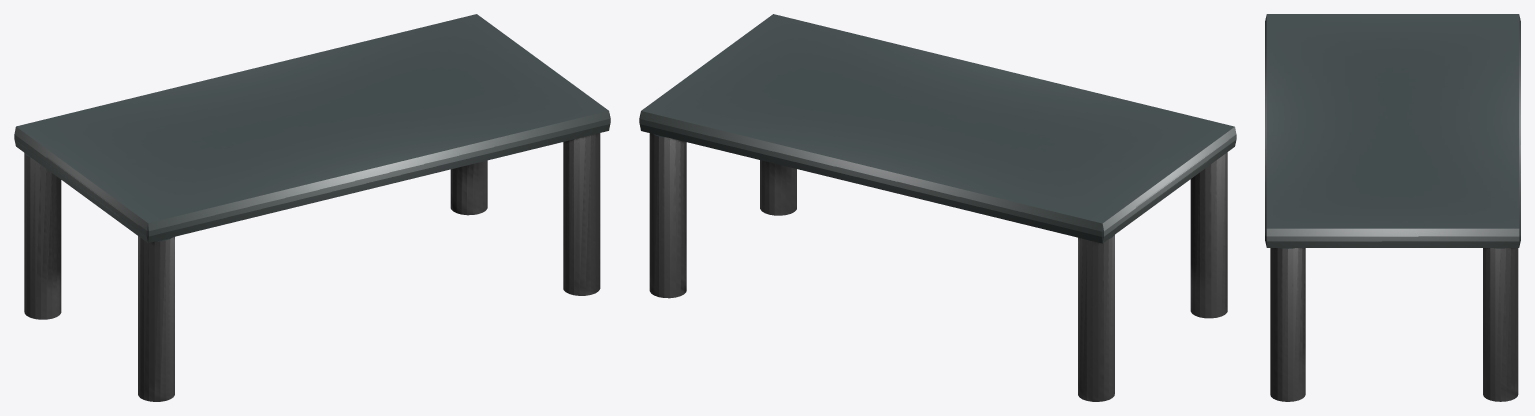
Rendered from table2.dae.
3 renders of one model, left to right at view 1: azimuth 30°, elevation 25°; view 2: azimuth 150°, elevation 25°; view 3: azimuth 270°, elevation 25°, orthographic. The views are drawn at different scales.
Visible parts, largest first — view 1: table; view 2: table; view 3: table.
Part boxes in pixels (x1,y1,x2,y2): table: (14, 14, 610, 401); table: (639, 14, 1236, 401); table: (1265, 14, 1520, 401).
Bounding box in the file's own units: 3.53 × 1.76 × 1.32.
1 material, 1 textured.
